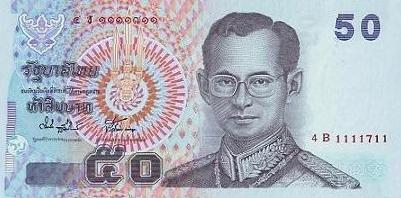50BahtTai: (0, 2, 401, 197)
